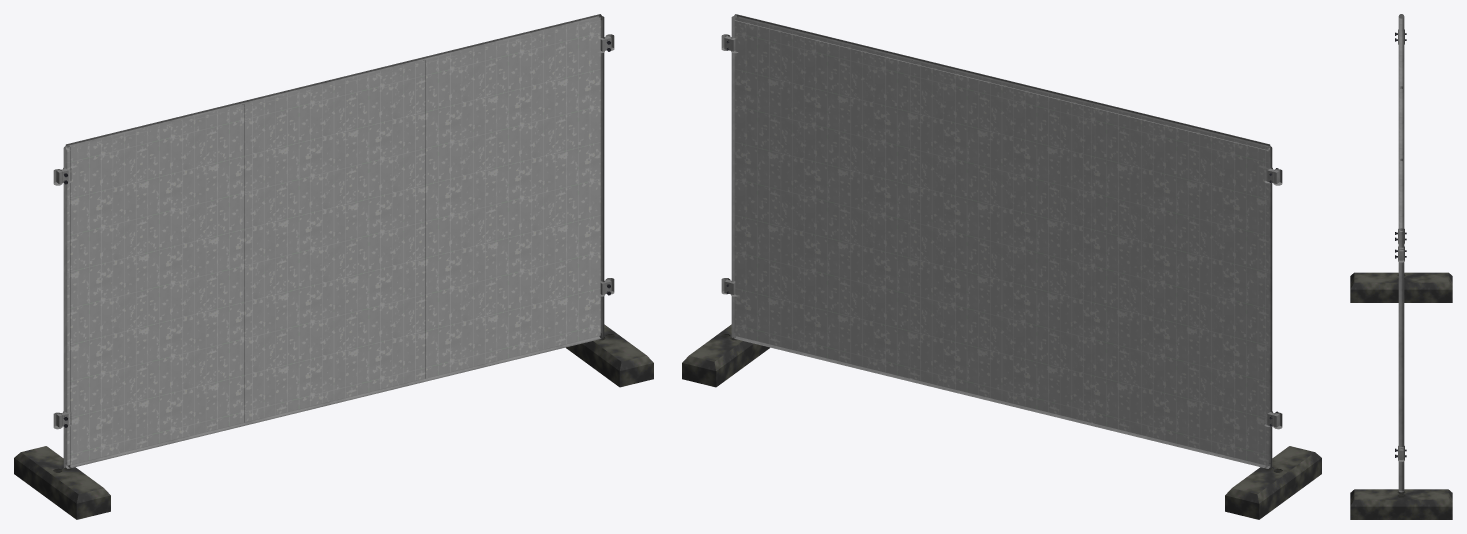
File: temporary-mesh-fence-panel.glb
The picture shows the model from 3 angles, left to right: view 1: azimuth 30°, elevation 25°; view 2: azimuth 150°, elevation 25°; view 3: azimuth 270°, elevation 25°; orthographic projection. The views are drawn at different scales.
Parts seen in each view (by area): view 1: mesh_fence_panel_mesh; view 2: mesh_fence_panel_mesh; view 3: mesh_fence_panel_mesh.
Part boxes in pixels (x1,y1,x2,y2): mesh_fence_panel_mesh: (14,14,653,519); mesh_fence_panel_mesh: (682,14,1321,519); mesh_fence_panel_mesh: (1350,14,1452,519).
Size of the model in its own units: 3.72 by 2.14 by 0.6998.
Materials: 4 (4 with a texture image).
